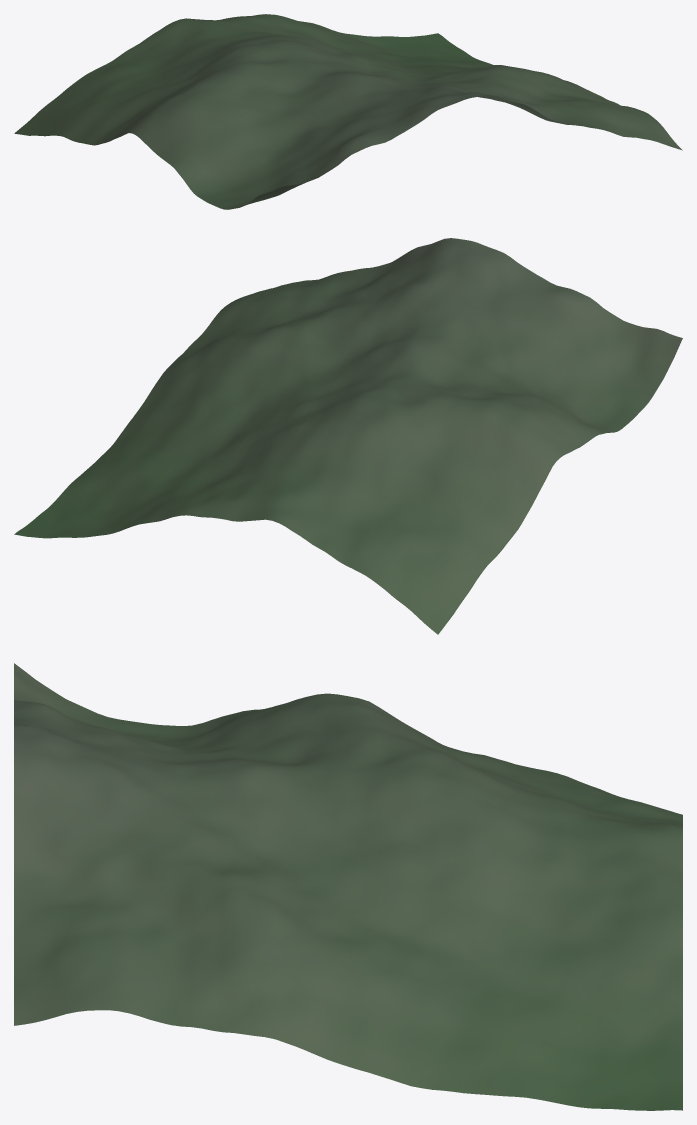
Rendered from chunk_2_0.obj.
3 views of the same model, one above another, from view 1: azimuth 30°, elevation 25°; view 2: azimuth 150°, elevation 25°; view 3: azimuth 270°, elevation 25° (orthographic). The views are drawn at different scales.
Parts seen in each view (by area): view 1: chunk_2_0.obj; view 2: chunk_2_0.obj; view 3: chunk_2_0.obj.
Boxes of the visible parts, x1,y1,x2,y2 form: chunk_2_0.obj: (14, 14, 682, 209); chunk_2_0.obj: (14, 238, 682, 634); chunk_2_0.obj: (14, 663, 682, 1110).
Bounding box in the file's own units: 64 × 24.02 × 64.
Materials: 1 (1 with a texture image).
